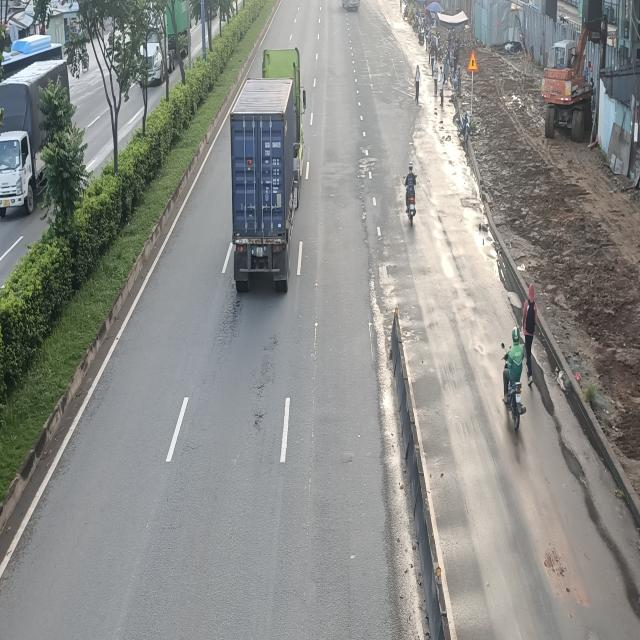container: (228, 46, 308, 293)
